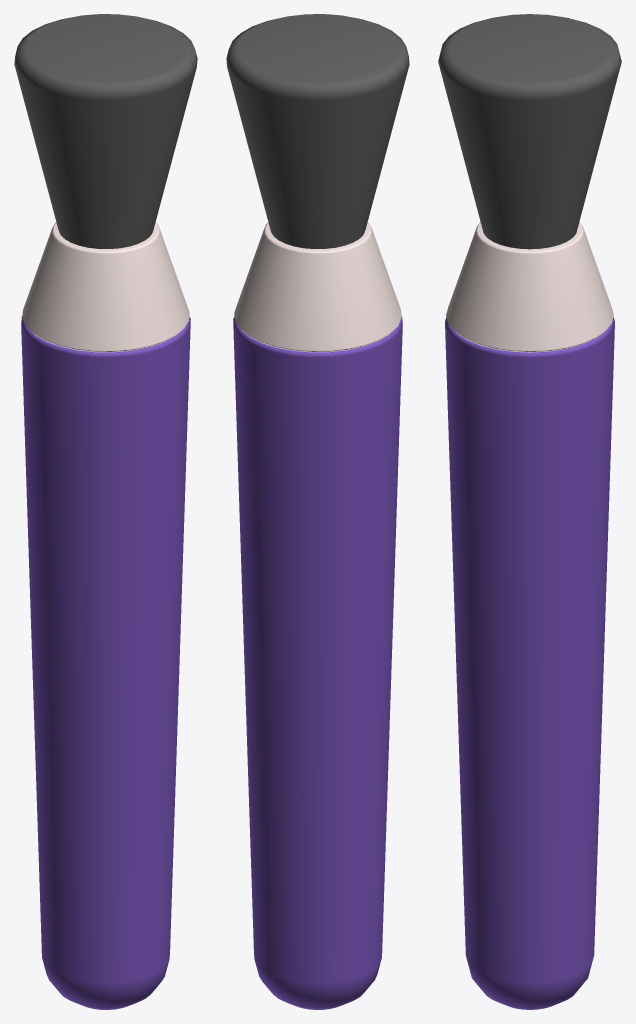
File: Isl_7_Cosmetic_Brush_1.fbx
3 renders of one model, left to right at view 1: azimuth 30°, elevation 25°; view 2: azimuth 150°, elevation 25°; view 3: azimuth 270°, elevation 25°, orthographic.
Visible parts, largest first — view 1: Isl_7_Cosmetic_Brush_1; view 2: Isl_7_Cosmetic_Brush_1; view 3: Isl_7_Cosmetic_Brush_1.
Boxes of the visible parts, x1,y1,x2,y2 form: Isl_7_Cosmetic_Brush_1: (14, 14, 197, 1009); Isl_7_Cosmetic_Brush_1: (226, 14, 409, 1009); Isl_7_Cosmetic_Brush_1: (438, 14, 621, 1009).
Bounding box in the file's own units: 31.5 × 180 × 31.5.
